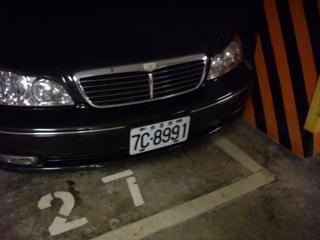plate: (129, 115, 190, 153)
